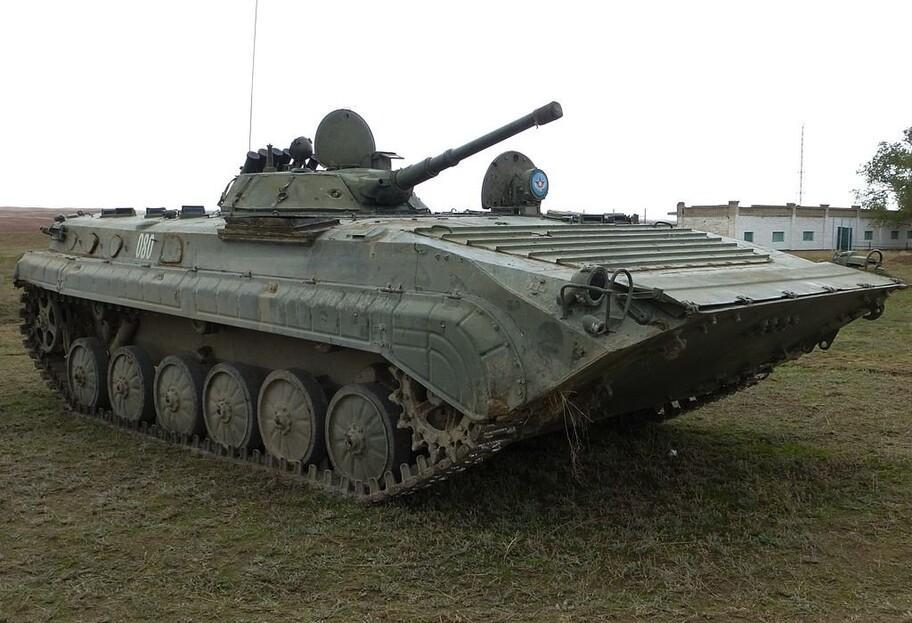tank: (14, 76, 912, 510)
